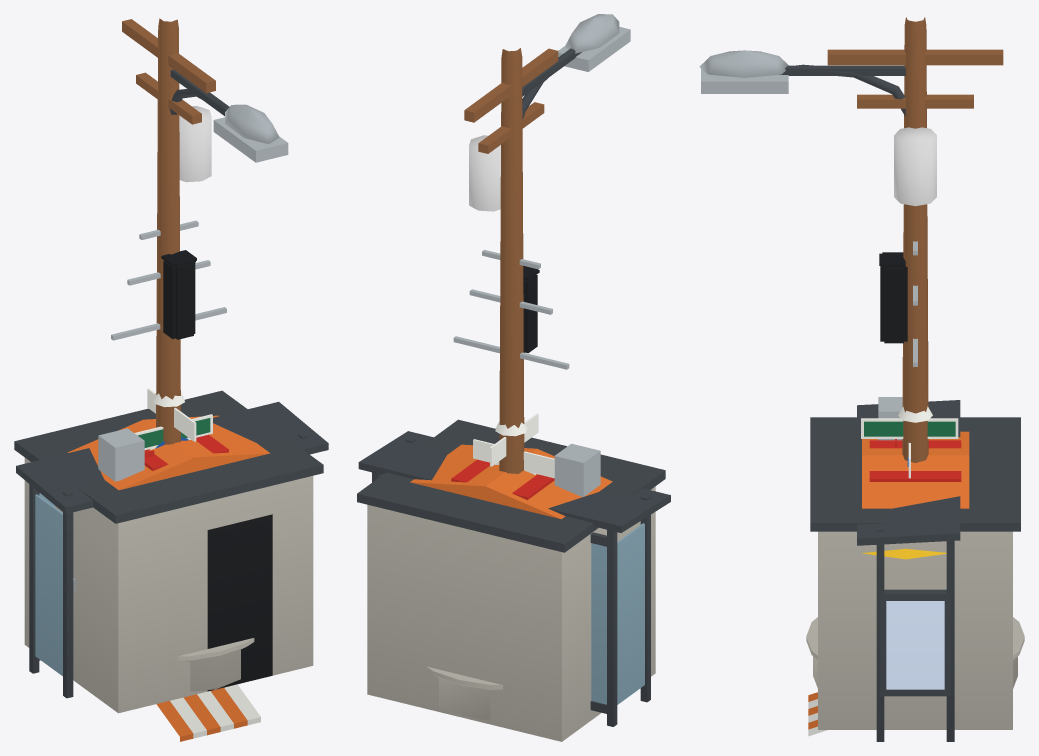
Rendered from streetkit.aea33748.glb.
The picture shows the model from 3 angles, left to right: view 1: azimuth 30°, elevation 25°; view 2: azimuth 150°, elevation 25°; view 3: azimuth 270°, elevation 25°; orthographic projection. The views are drawn at different scales.
Parts seen in each view (by area): view 1: bulkhead, busstop, utility_pole, kiosk, awning, signal, fountain, streetlight_far, streetlight, mast, sign_street, phone_booth; view 2: bulkhead, busstop, utility_pole, kiosk, fountain, streetlight, mast, sign_street, streetlight_far, signal, phone_booth; view 3: bulkhead, utility_pole, busstop, kiosk, streetlight_far, streetlight, signal, sign_street, phone_booth, fountain, mast.
Boxes of the visible parts, bbox=[...] form: bulkhead: bbox=[14, 390, 323, 713]; busstop: bbox=[16, 401, 328, 698]; utility_pole: bbox=[122, 18, 215, 444]; kiosk: bbox=[67, 415, 269, 490]; awning: bbox=[156, 684, 260, 741]; signal: bbox=[161, 250, 196, 339]; fountain: bbox=[177, 638, 254, 691]; streetlight_far: bbox=[170, 69, 288, 162]; streetlight: bbox=[169, 89, 279, 143]; mast: bbox=[111, 220, 226, 407]; sign_street: bbox=[134, 388, 212, 449]; phone_booth: bbox=[144, 434, 228, 470]; bulkhead: bbox=[357, 419, 665, 741]; busstop: bbox=[358, 431, 670, 726]; utility_pole: bbox=[464, 48, 558, 473]; kiosk: bbox=[410, 444, 612, 519]; fountain: bbox=[426, 666, 502, 720]; streetlight: bbox=[522, 14, 619, 118]; mast: bbox=[453, 249, 569, 436]; sign_street: bbox=[473, 413, 554, 478]; streetlight_far: bbox=[522, 26, 630, 96]; signal: bbox=[523, 266, 539, 353]; phone_booth: bbox=[451, 459, 554, 499]; bulkhead: bbox=[810, 397, 1020, 729]; utility_pole: bbox=[827, 17, 1003, 462]; busstop: bbox=[857, 400, 960, 741]; kiosk: bbox=[862, 431, 969, 508]; streetlight_far: bbox=[701, 65, 905, 93]; streetlight: bbox=[699, 50, 905, 116]; signal: bbox=[879, 252, 907, 343]; sign_street: bbox=[861, 418, 958, 478]; phone_booth: bbox=[869, 440, 961, 481]; fountain: bbox=[806, 617, 1024, 688]; mast: bbox=[898, 241, 932, 422].
Bounding box in the file's own units: 3.24 × 7.96 × 3.34.
Materials: 1 (1 with a texture image).
